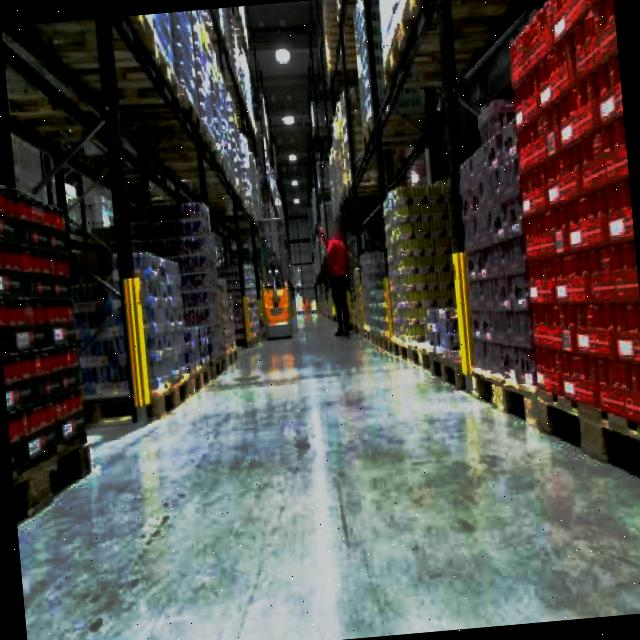ground: (2, 278, 640, 640)
pallet: (312, 0, 640, 636), (0, 4, 311, 640), (500, 0, 640, 503), (66, 194, 245, 427), (0, 143, 100, 553), (450, 102, 541, 394), (378, 177, 471, 392)
